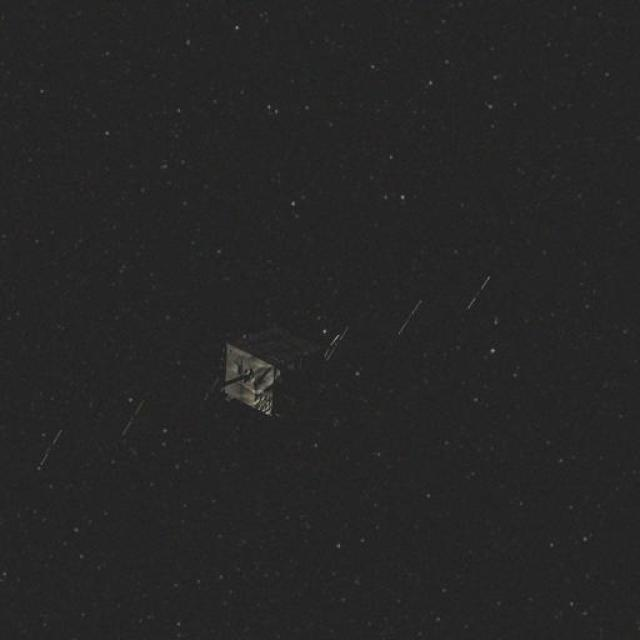smart_1: (79, 244, 391, 459)
